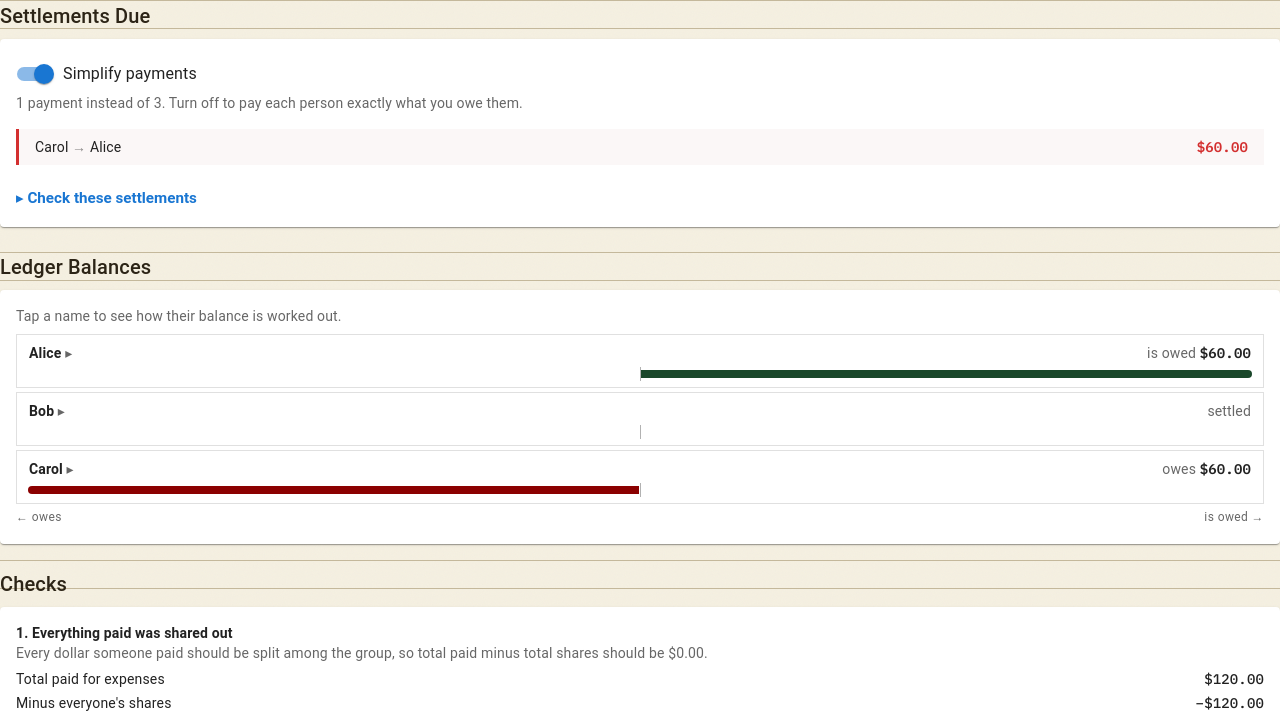
Test: settlement check with simplified payments › adds up each person's direct debts to their balance, then their payment to $0.00
The image size is (1280, 717).
Click the button "▸ Check these settlements". click: (106, 198)
box: left=16, top=185, right=197, bottom=211
(page scrolled)
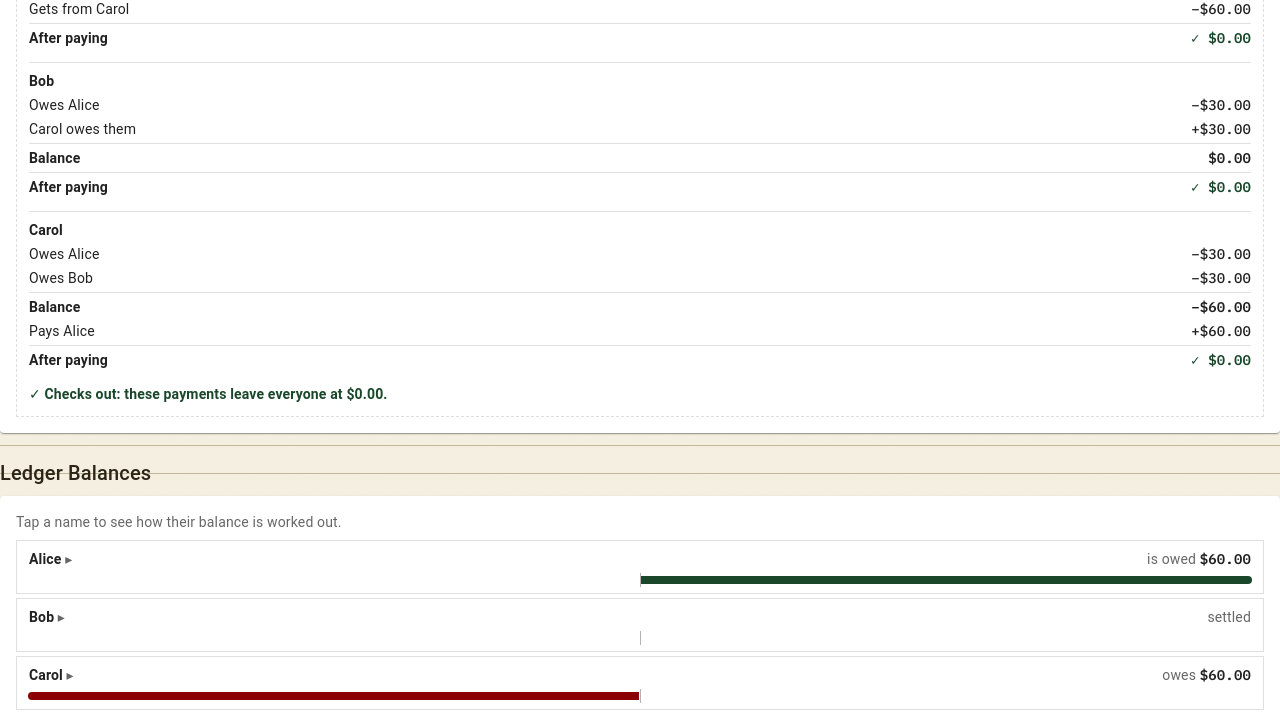
expect the text "−$30.00" in the row of "Owes Bob" is shown: met, box left=1191, top=269, right=1251, bottom=287
expect the 2nd text "−$60.00" is shown: met, box left=1191, top=297, right=1251, bottom=317
expect the text "+$60.00" is shown: met, box left=1191, top=321, right=1251, bottom=341
